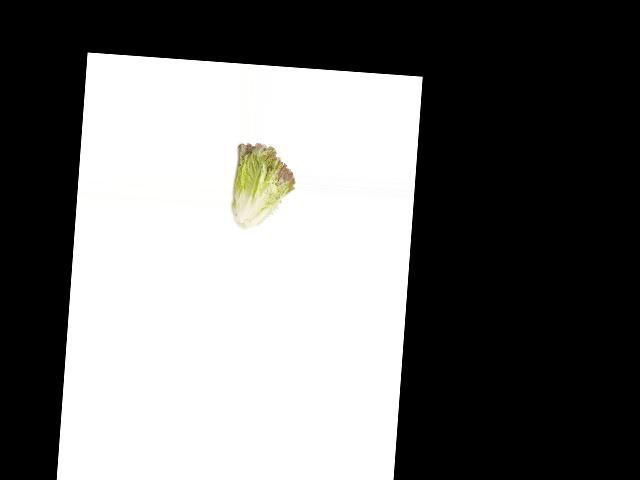lettuce: (231, 140, 296, 231)
